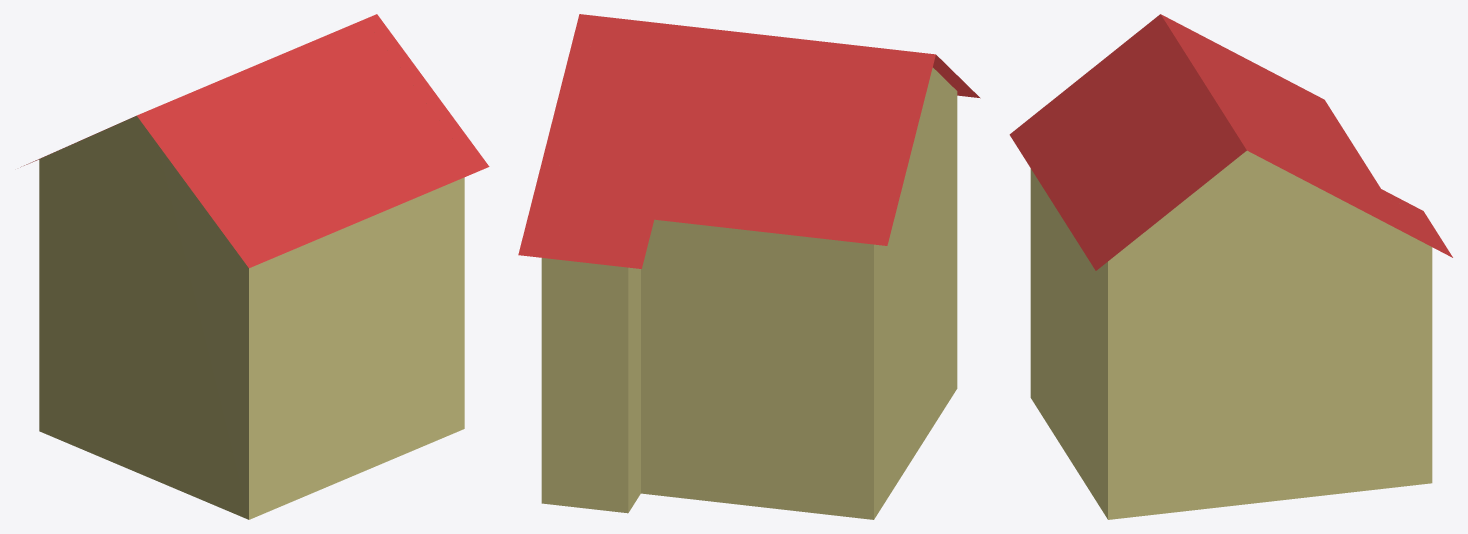
The picture shows the model from 3 angles, left to right: view 1: azimuth 30°, elevation 25°; view 2: azimuth 150°, elevation 25°; view 3: azimuth 270°, elevation 25°; orthographic projection. The views are drawn at different scales.
Size of the model in its own units: 11.83 by 12.9 by 11.58.
